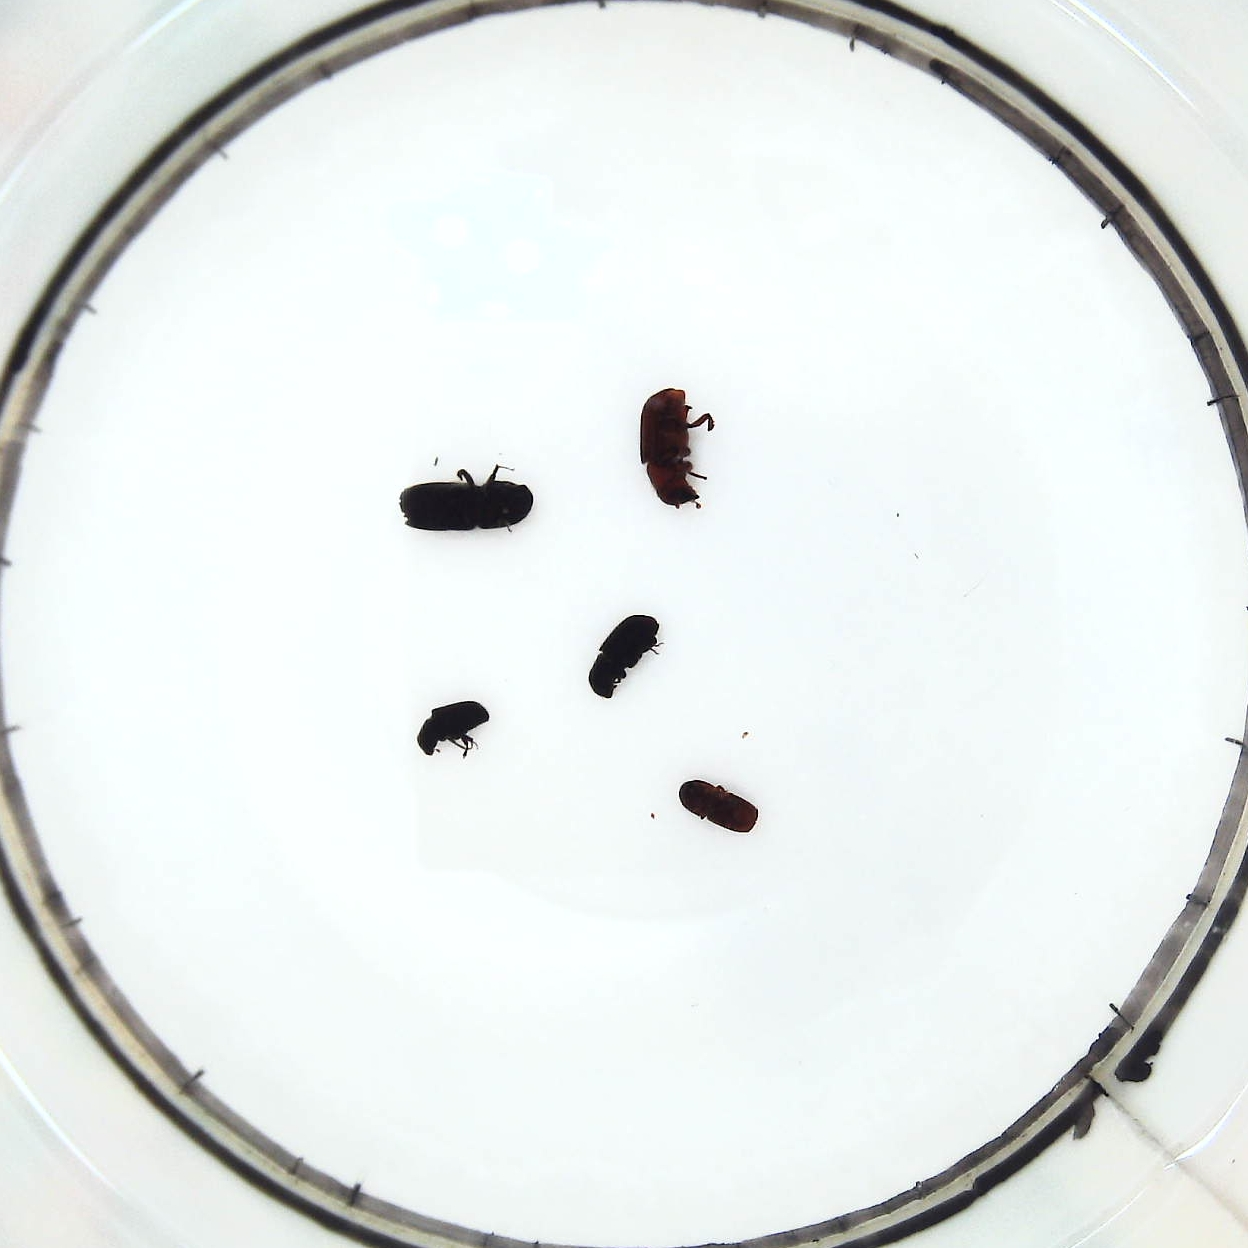Boerner: (393, 459, 539, 543)
Leconte: (632, 382, 717, 517)
armandi: (587, 611, 667, 704)
coleoptera: (410, 697, 493, 765)
linnaeus: (678, 773, 766, 838)
